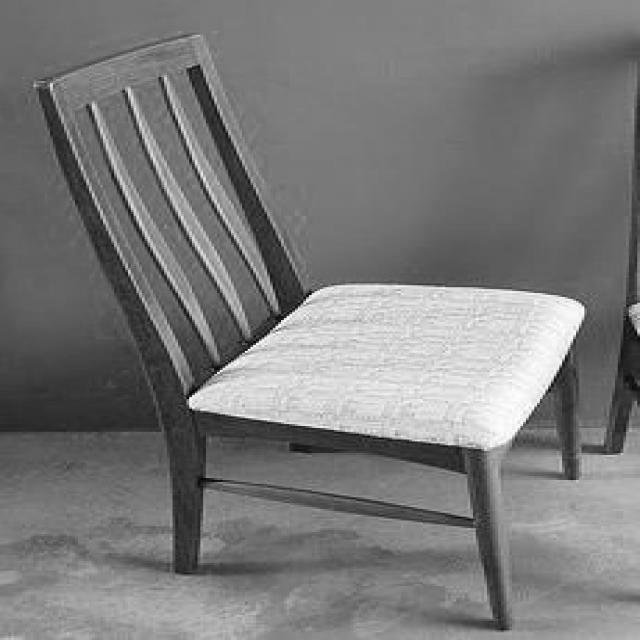chair: (34, 30, 587, 630)
